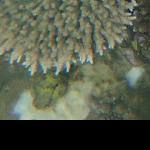dead: (1, 1, 147, 119)
